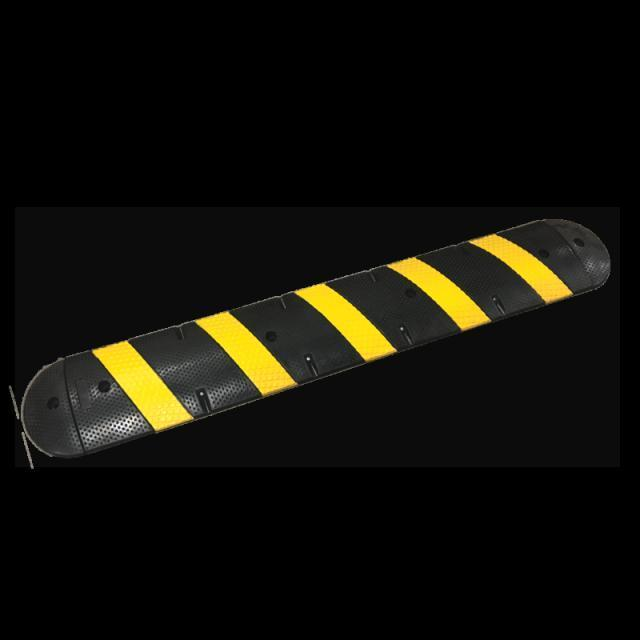Marked Bump: (33, 208, 597, 478)
